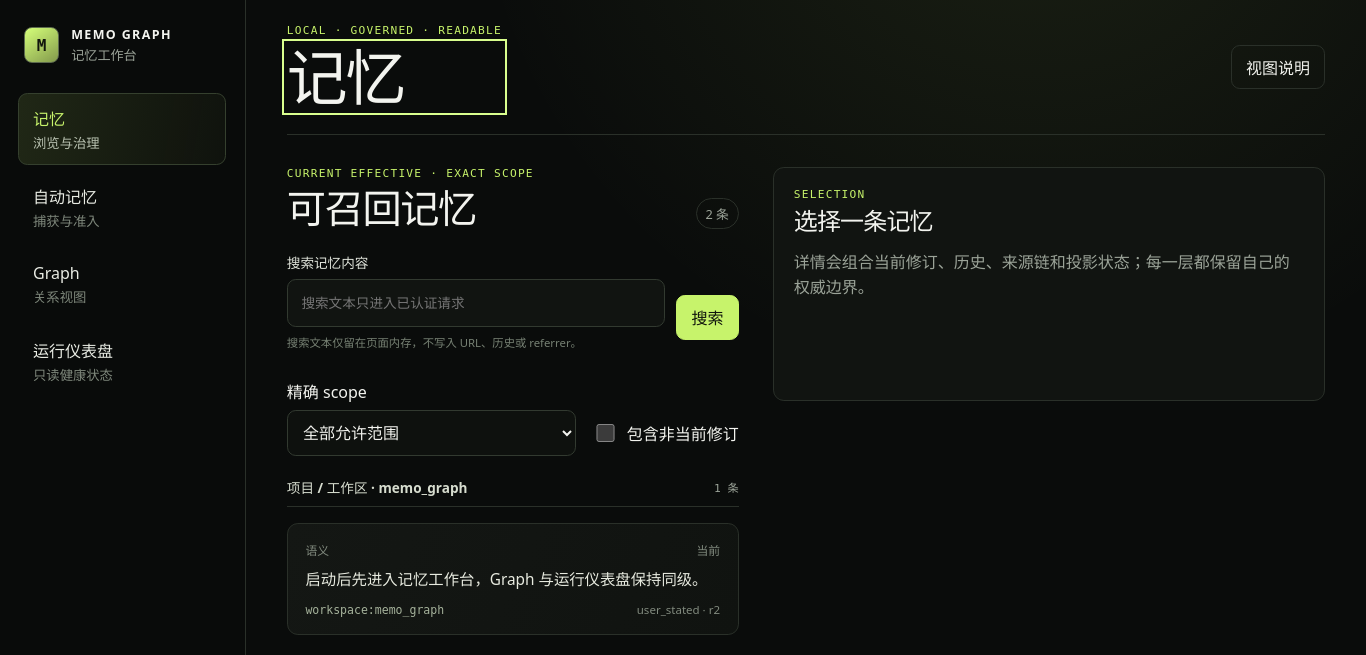
it: sealed correction experience › guards top-level navigation while a local correction draft is dirty
Check: the text "启动后先进入记忆工作台，Graph 与运行仪表盘保持同级。" is shown, box [305, 568, 720, 592]
Click the button "启动后先进入记忆工作台，Graph 与运行仪表盘保持同级。". click: (513, 579)
box: [288, 524, 738, 634]
(page scrolled)
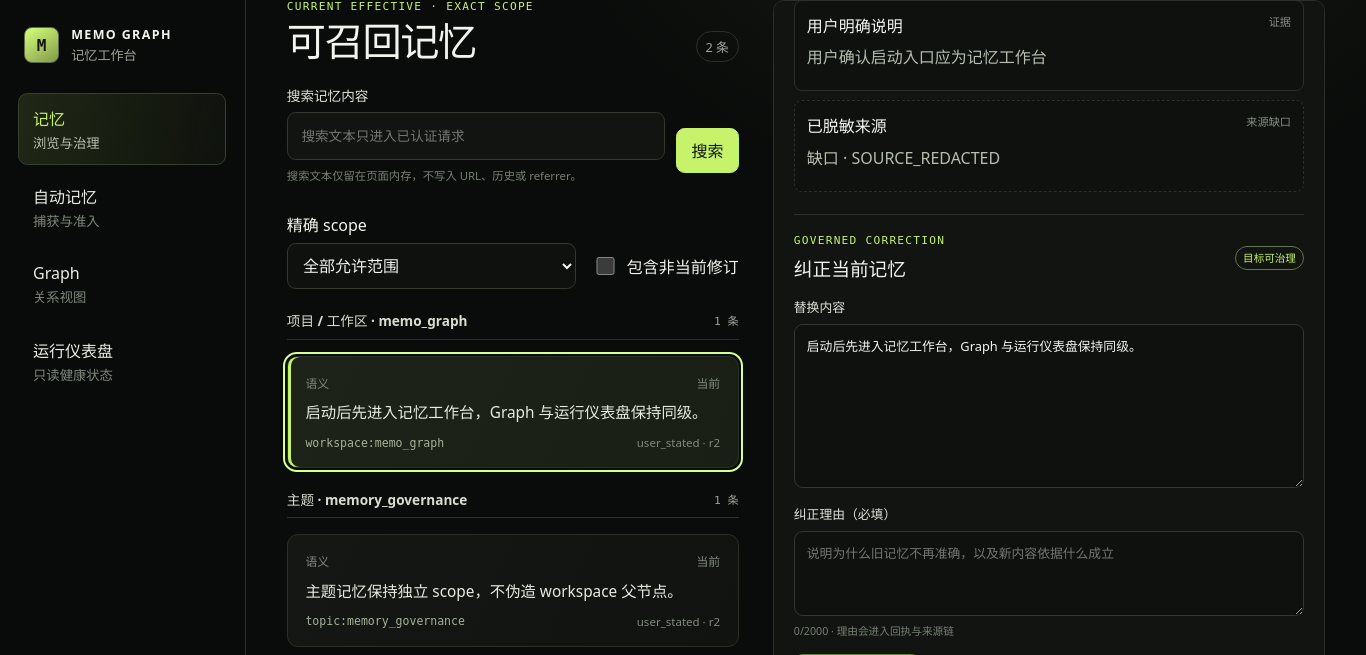
Check: the heading "纠正当前记忆" is shown, box [794, 256, 906, 281]
Replace the text in the text box labelled "替换内容" with "尚未提交的本地草稿". click: (1049, 406)
box: [794, 324, 1304, 488]
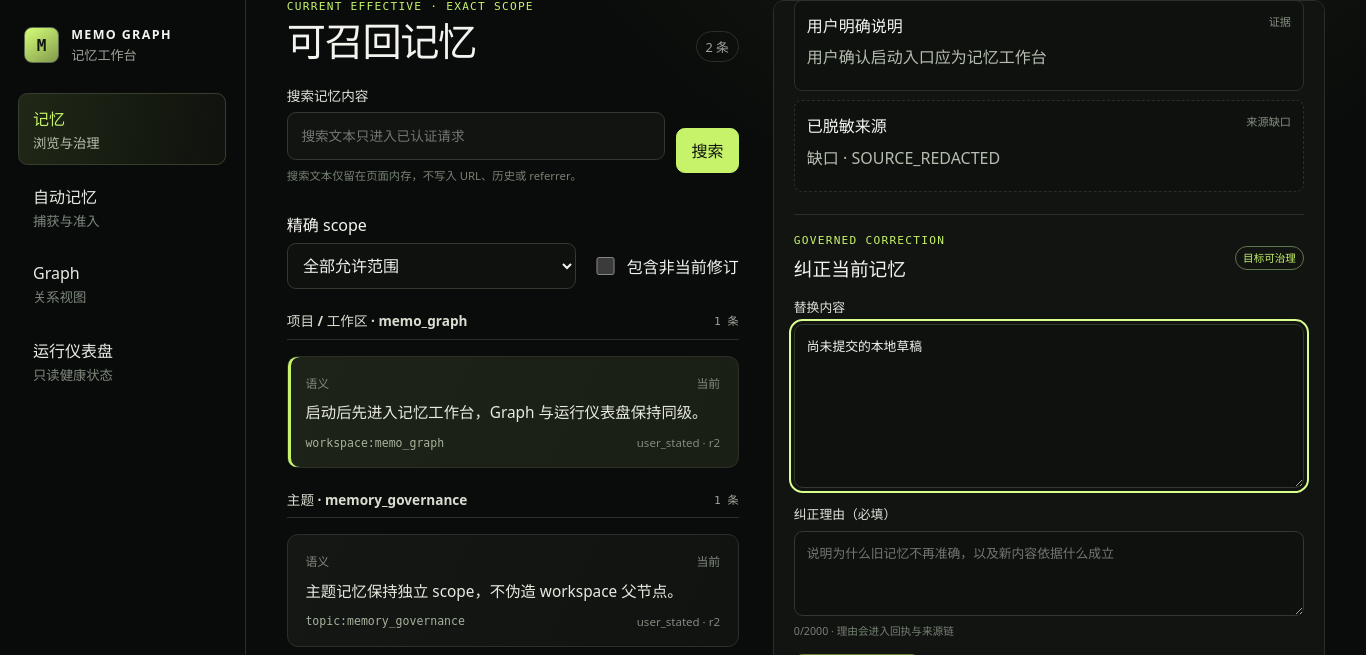
Type "离开前必须显式确认丢弃" into the text box labelled "纠正理由（必填） 0/2000 · 理由会进入回执与来源链". click: (1049, 573)
box: [794, 531, 1304, 616]
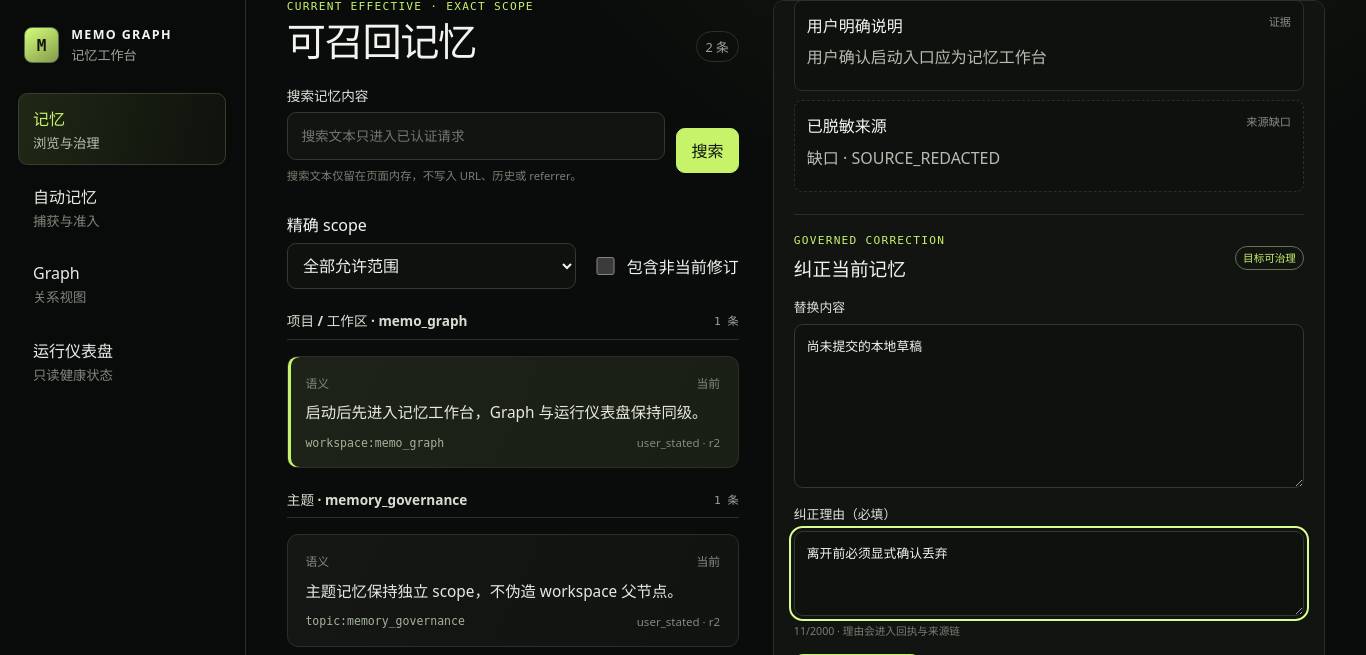
Click the link "Graph 关系视图". click: (60, 284)
box: [33, 262, 86, 306]
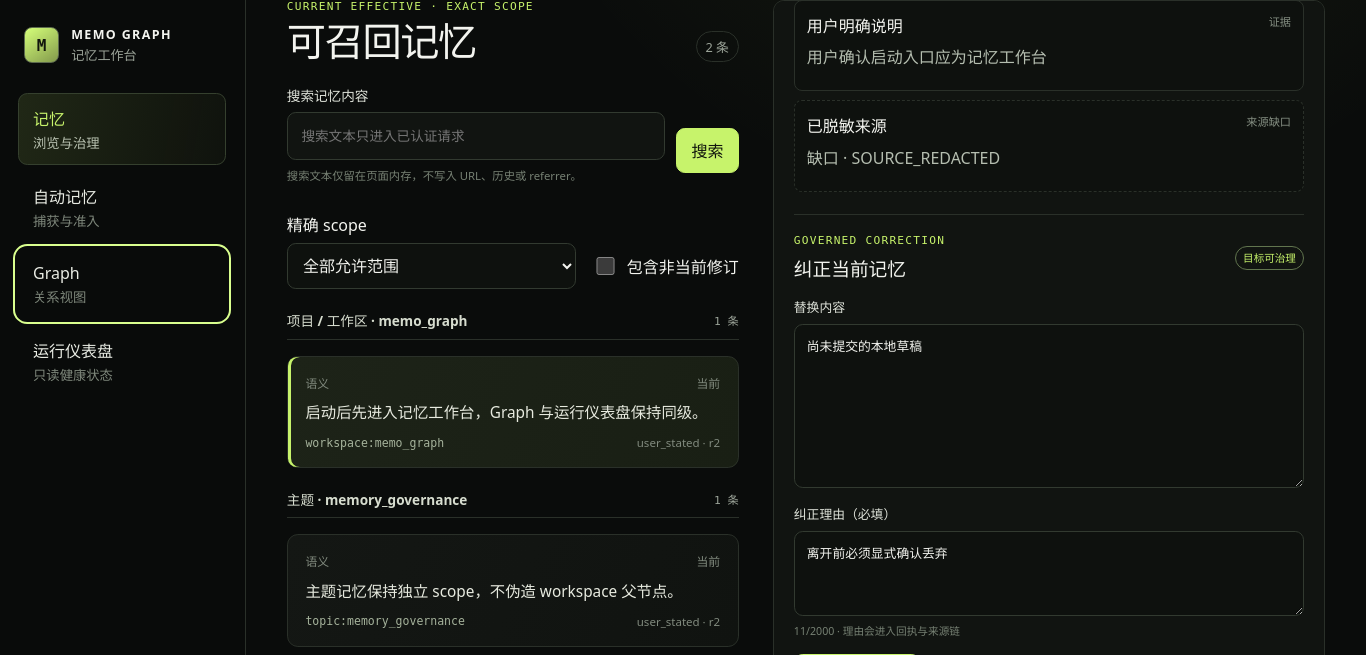
Click the link "Graph 关系视图". click: (60, 284)
box: [33, 262, 86, 306]
(page scrolled)
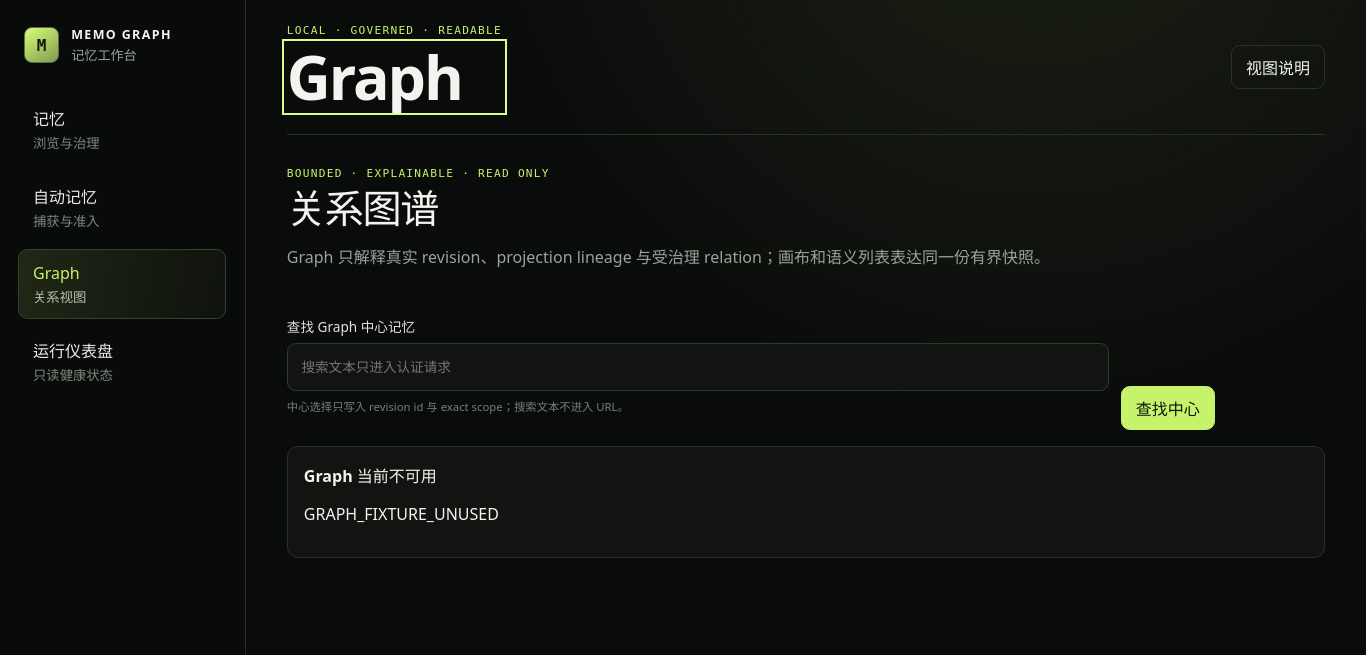
Check: the heading "Graph" is shown, box [287, 35, 462, 118]
